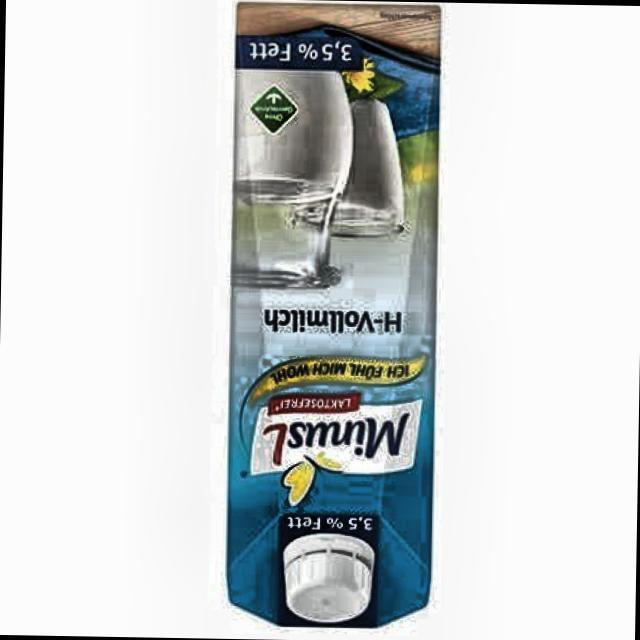cardboard: (224, 2, 444, 632)
